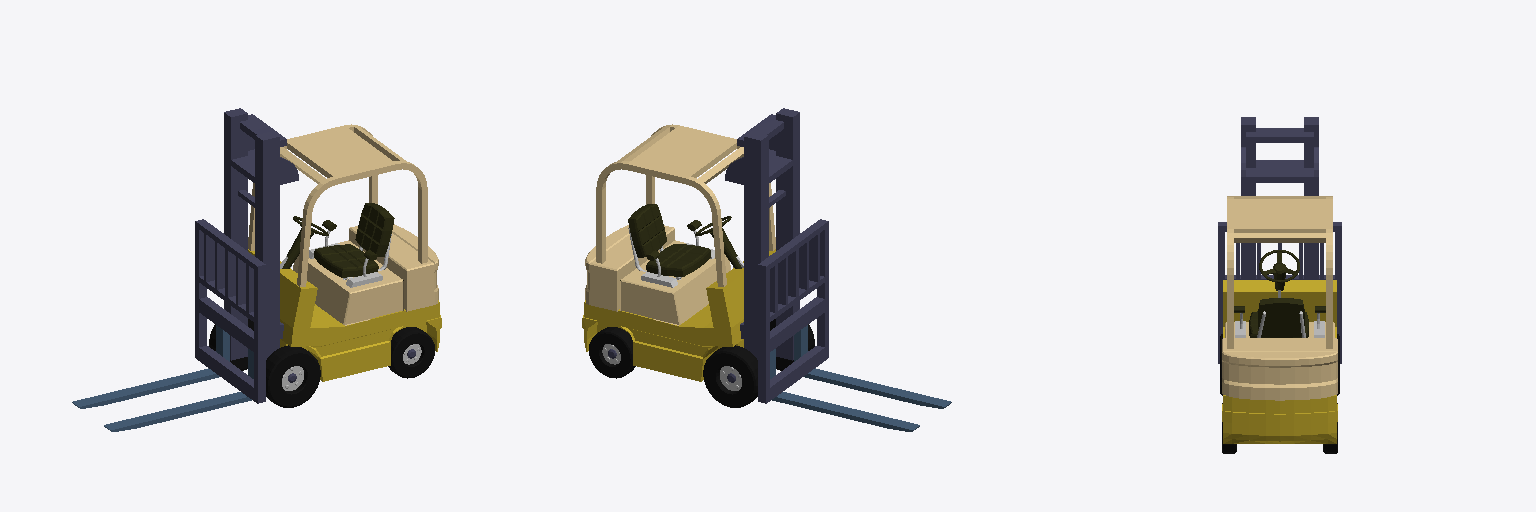
File: lift_truck.obj
3 renders of one model, left to right at view 1: azimuth 30°, elevation 25°; view 2: azimuth 150°, elevation 25°; view 3: azimuth 270°, elevation 25°, orthographic.
Visible parts, largest first — view 1: geel2, metaal2, metaal1, geel1, banden, vorken, zitting, metaal3; view 2: geel2, metaal2, metaal1, geel1, banden, vorken, zitting, metaal3; view 3: geel2, geel1, metaal2, zitting, metaal1, metaal3, banden.
Part boxes in pixels (x1,y1,x2,y2): geel2: (248, 124, 438, 325); metaal2: (224, 108, 415, 382); metaal1: (195, 219, 265, 403); geel1: (248, 249, 441, 381); banden: (209, 319, 434, 407); vorken: (72, 325, 253, 431); zitting: (282, 203, 403, 280); metaal3: (280, 230, 421, 390); geel2: (585, 124, 775, 325); metaal2: (608, 108, 799, 382); metaal1: (758, 219, 828, 403); geel1: (582, 249, 775, 381); banden: (589, 319, 814, 407); vorken: (770, 325, 951, 431); zitting: (620, 204, 741, 280); metaal3: (602, 228, 743, 390); geel2: (1222, 196, 1337, 400); geel1: (1222, 280, 1337, 443); metaal2: (1241, 117, 1318, 279); zitting: (1234, 250, 1325, 337); metaal1: (1218, 222, 1341, 363); metaal3: (1235, 290, 1324, 337); banden: (1220, 334, 1339, 453).
Bounding box in the file's own units: 2.58 × 1.98 × 0.8438.